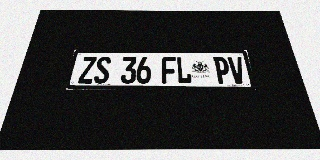3: (120, 57, 137, 84)
6: (136, 57, 151, 84)
F: (162, 57, 177, 84)
L: (176, 57, 192, 84)
P: (213, 57, 231, 84)
S: (93, 57, 111, 84)
V: (227, 57, 247, 84)
Z: (78, 57, 97, 84)
